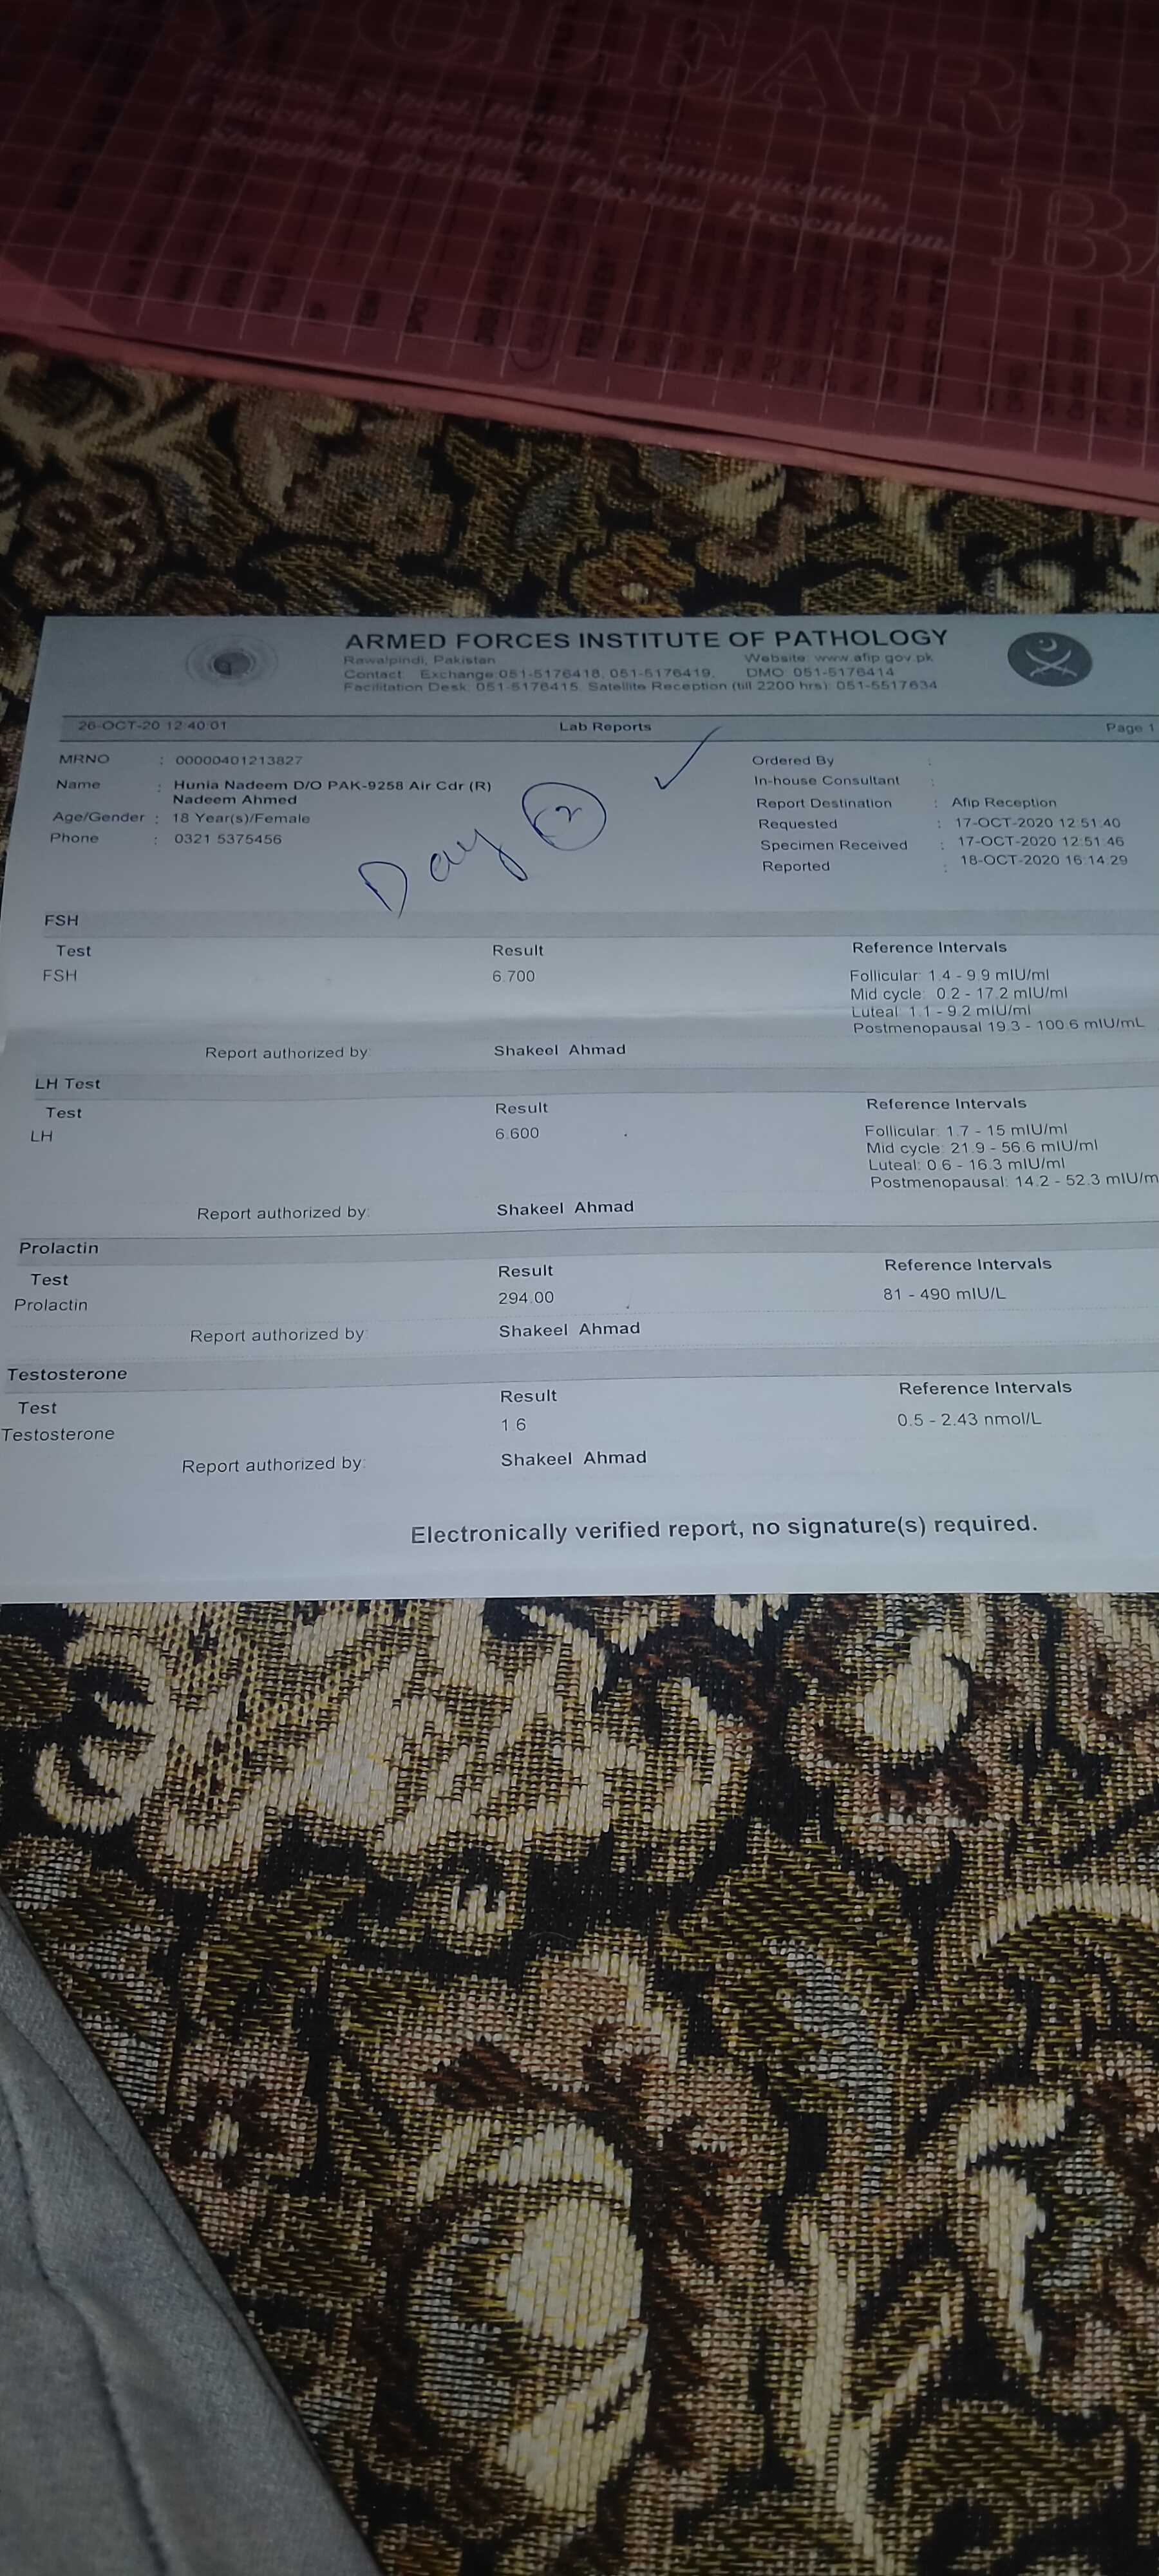report: (7, 899, 1159, 1449)
